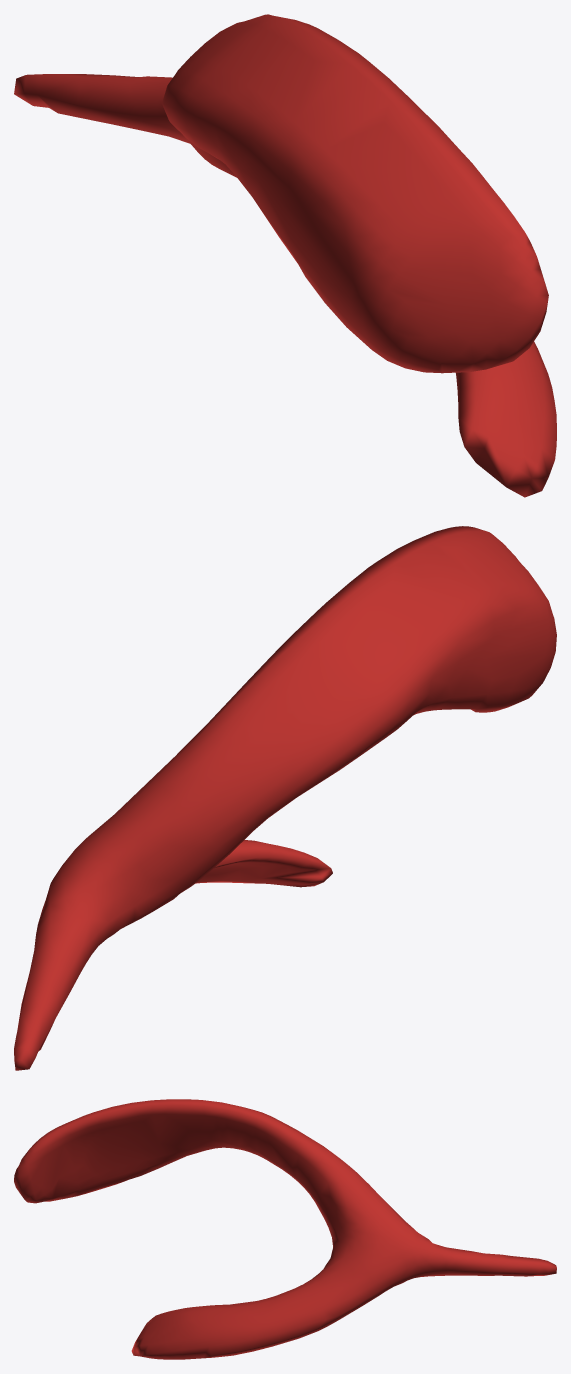
The model's file is nervoso-lateral-ventricle-l.glb.
3 renders of one model, top to bottom at view 1: azimuth 30°, elevation 25°; view 2: azimuth 150°, elevation 25°; view 3: azimuth 270°, elevation 25°, orthographic. The views are drawn at different scales.
Visible parts, largest first — view 1: Lateral ventricle.l; view 2: Lateral ventricle.l; view 3: Lateral ventricle.l.
Boxes of the visible parts, bbox=[...] form: Lateral ventricle.l: bbox=[14, 14, 556, 497]; Lateral ventricle.l: bbox=[14, 526, 556, 1070]; Lateral ventricle.l: bbox=[14, 1099, 556, 1359].
Bounding box in the file's own units: 0.0374 × 0.0471 × 0.1059.
